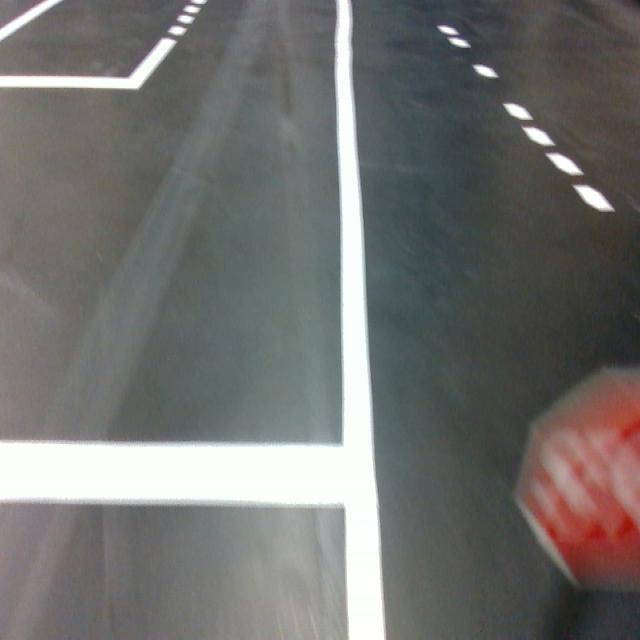stop-sign: (511, 365, 640, 591)
